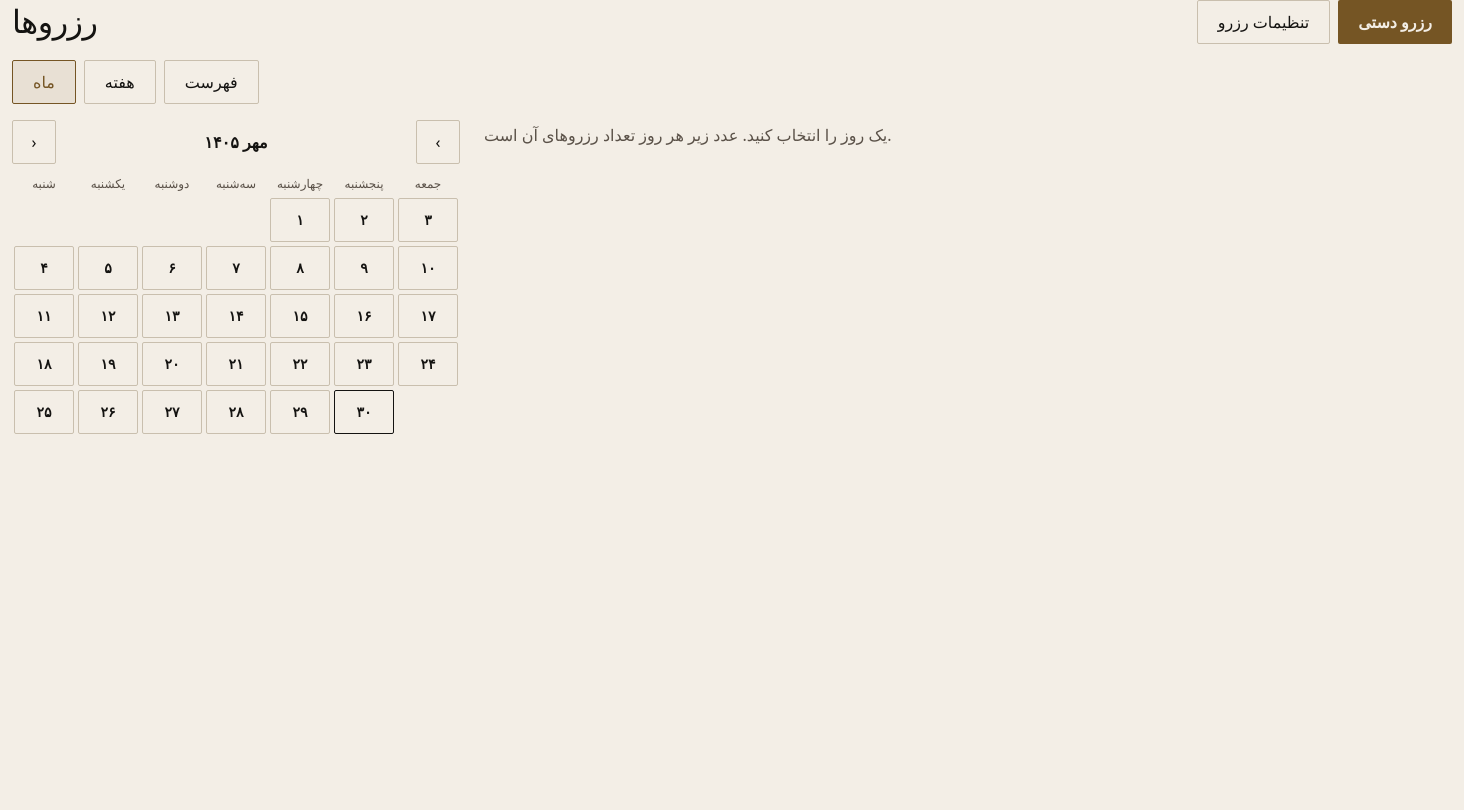
BookingsManager › shows the week from Saturday, with the bookings under their days
Click the tab "هفته". click: [120, 82]
box: [84,60,156,104]
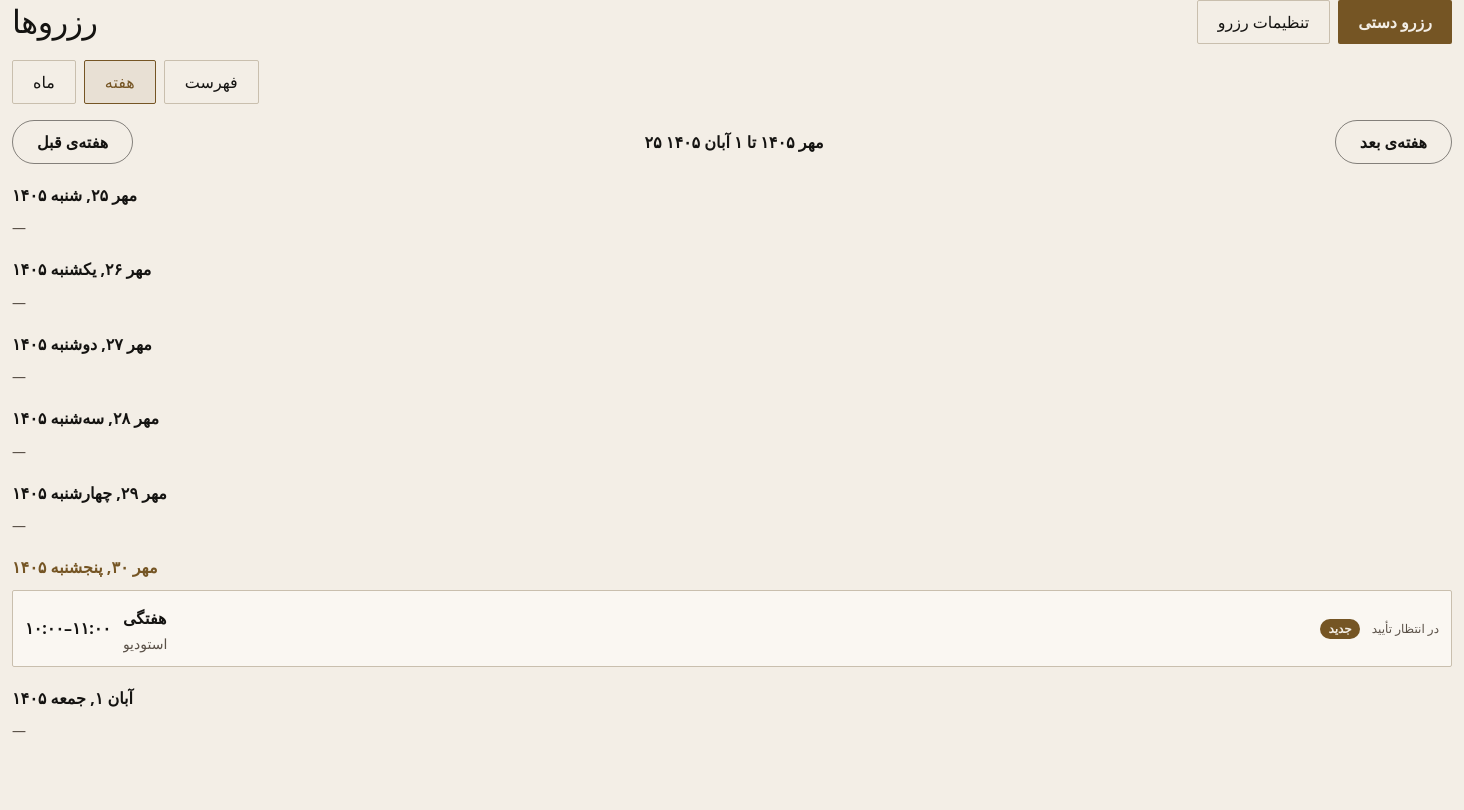
expect the text "هفتگی" is shown: met, box [123,607,166,629]
